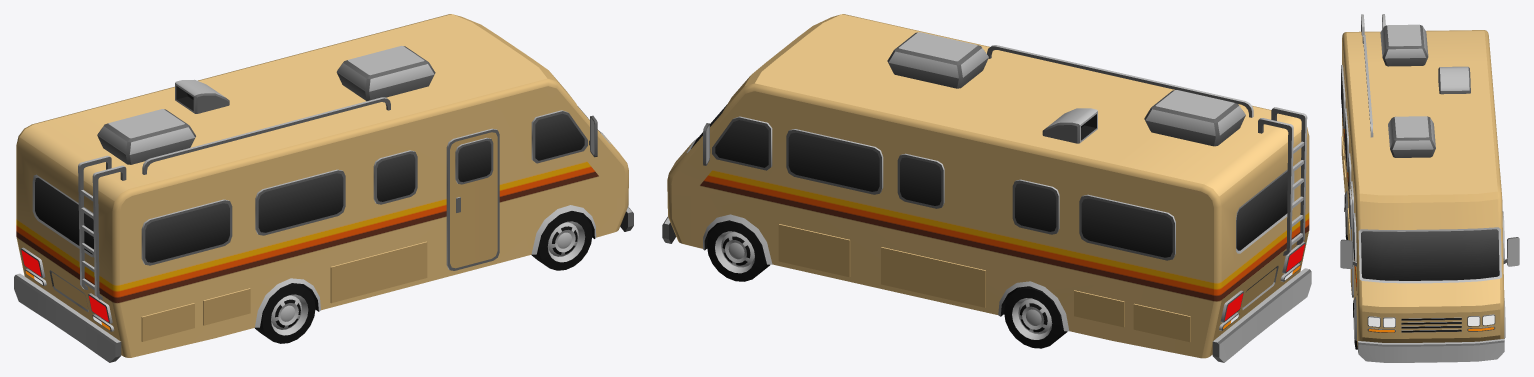
Rendered from Truck_016.glb.
3 views of the same model, side by side, from view 1: azimuth 30°, elevation 25°; view 2: azimuth 150°, elevation 25°; view 3: azimuth 270°, elevation 25° (orthographic). The views are drawn at different scales.
Visible parts, largest first — view 1: Truck_016, wheel_2_Truck_016_Wheel_3R, wheel_0_Truck_016_Wheel_1R; view 2: Truck_016, wheel_3_Truck_016_Wheel_4L, wheel_1_Truck_016_Wheel_2L; view 3: Truck_016.
Part boxes in pixels (x1=…): Truck_016: x1=14, y1=14, x2=633, y2=362; wheel_2_Truck_016_Wheel_3R: x1=255, y1=283, x2=315, y2=343; wheel_0_Truck_016_Wheel_1R: x1=531, y1=211, x2=592, y2=270; Truck_016: x1=662, y1=14, x2=1311, y2=362; wheel_3_Truck_016_Wheel_4L: x1=1004, y1=286, x2=1067, y2=348; wheel_1_Truck_016_Wheel_2L: x1=707, y1=220, x2=769, y2=281; Truck_016: x1=1340, y1=14, x2=1519, y2=362.
Size of the model in its own units: 6.86 by 2.62 by 2.55.
Materials: 2 (2 with a texture image).
